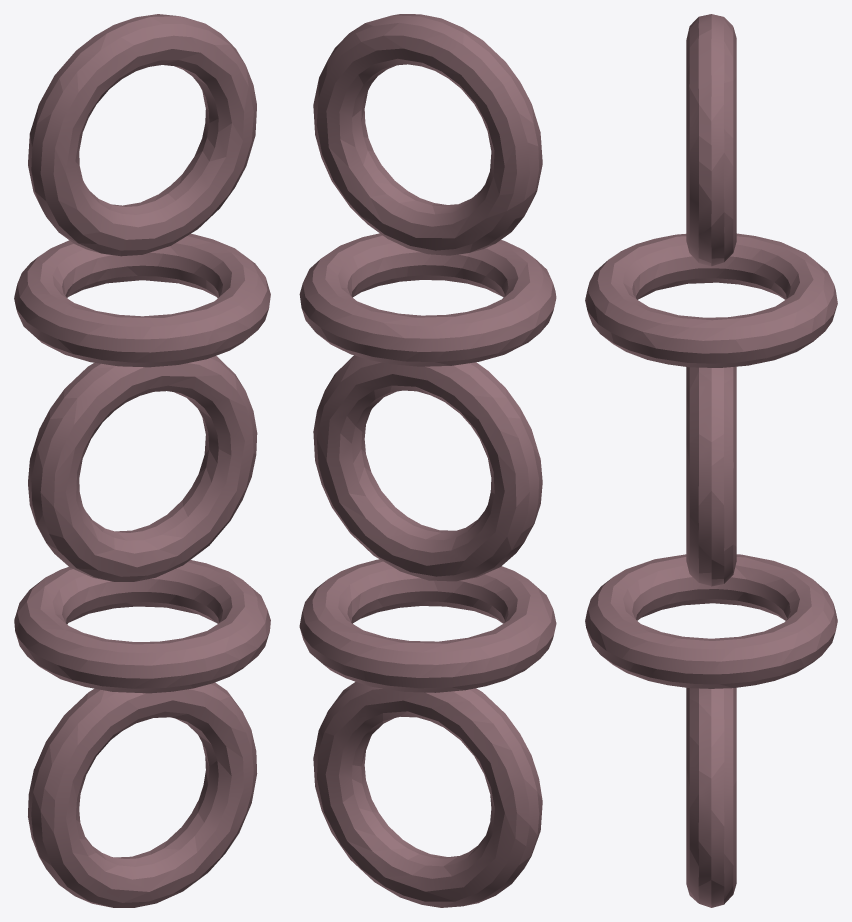
The model's file is SM_Schlachthof_Chain.fbx.
The picture shows the model from 3 angles, left to right: view 1: azimuth 30°, elevation 25°; view 2: azimuth 150°, elevation 25°; view 3: azimuth 270°, elevation 25°; orthographic projection.
Visible parts, largest first — view 1: SM_Schlachthof_Chain; view 2: SM_Schlachthof_Chain; view 3: SM_Schlachthof_Chain.
Part boxes in pixels (x1,y1,x2,y2): SM_Schlachthof_Chain: [14, 14, 270, 907]; SM_Schlachthof_Chain: [299, 14, 556, 907]; SM_Schlachthof_Chain: [585, 14, 837, 907].
Bounding box in the file's own units: 0.6 × 2.28 × 0.6.
